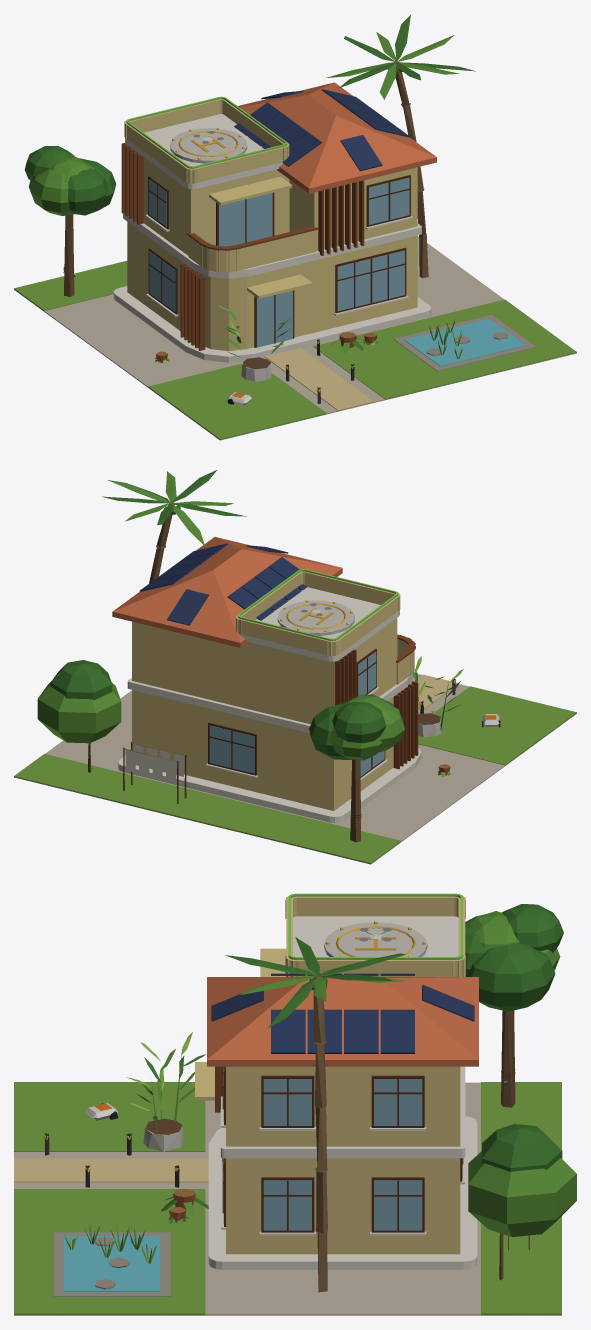
The model's file is home_1.glb.
The picture shows the model from 3 angles, top to bottom: view 1: azimuth 30°, elevation 25°; view 2: azimuth 150°, elevation 25°; view 3: azimuth 270°, elevation 25°; orthographic projection. The views are drawn at different scales.
Visible parts, largest first — view 1: body, windows; view 2: body, windows; view 3: body, windows.
Boxes of the visible parts, x1,y1,x2,y2 form: body: (14, 15, 576, 440); windows: (126, 96, 354, 392); body: (14, 469, 576, 864); windows: (237, 569, 455, 705); body: (14, 896, 576, 1315); windows: (44, 893, 463, 1172).
Bounding box in the file's own units: 16.06 × 10.5 × 16.34.
